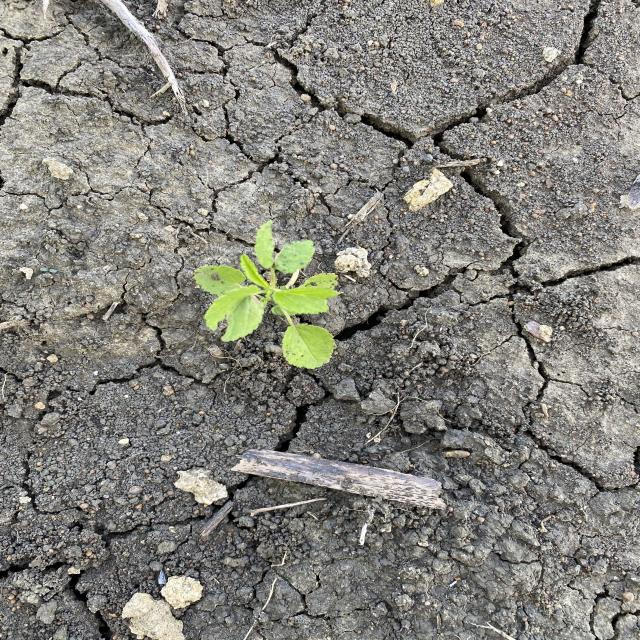PricklySida: (190, 220, 342, 372)
